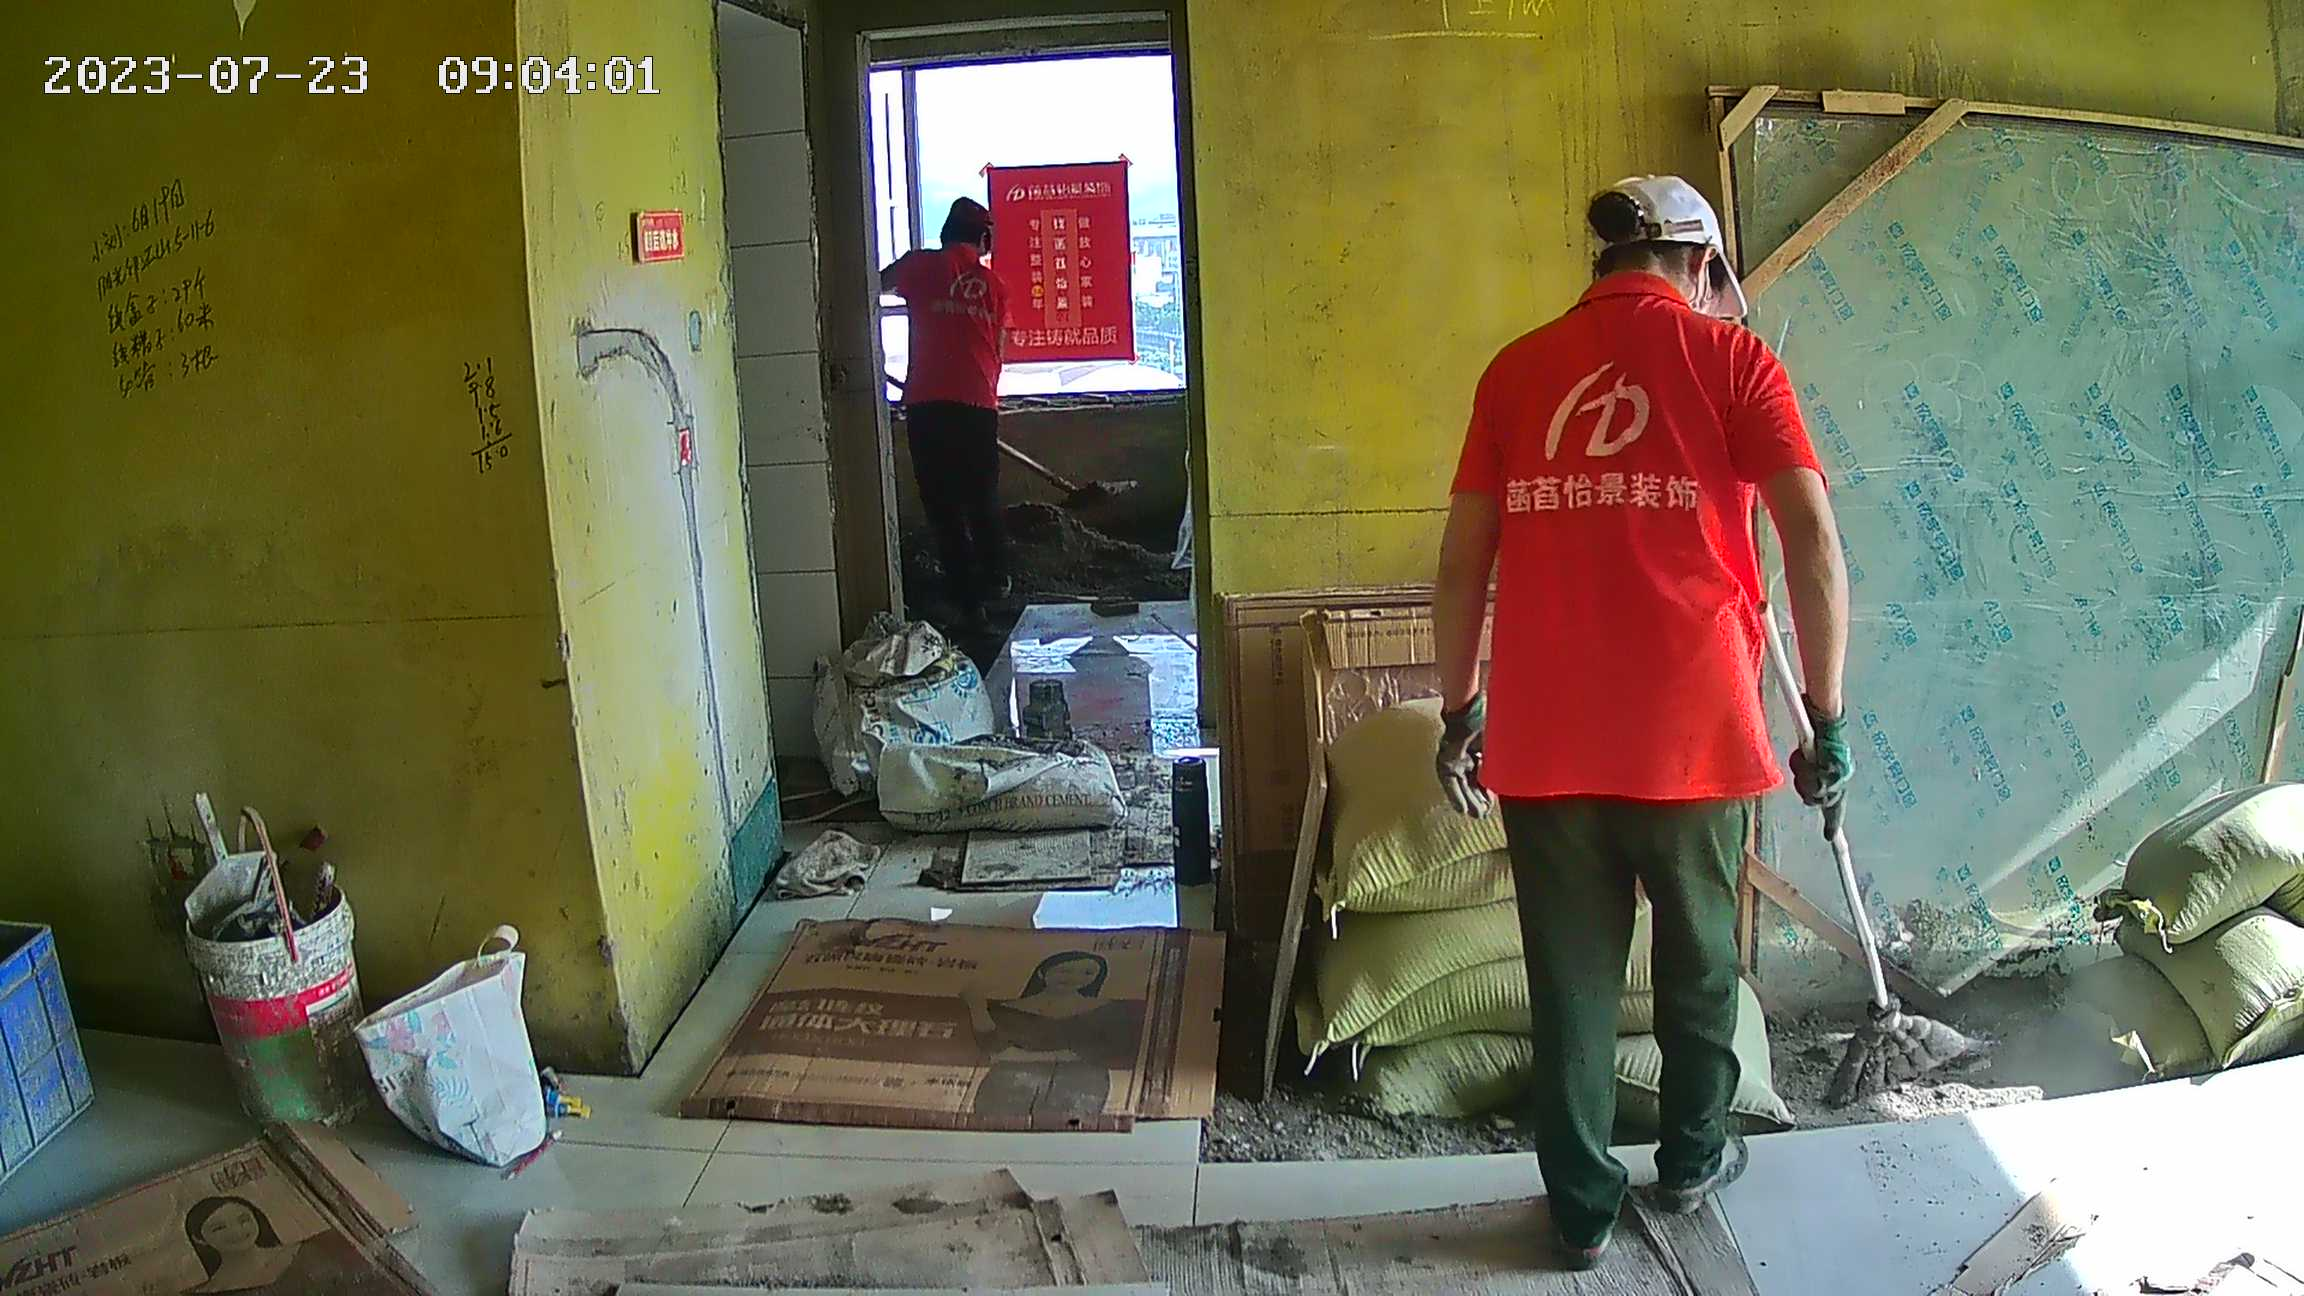people: (1422, 176, 1860, 1261), (873, 190, 1015, 634)
window: (873, 64, 1197, 401)
